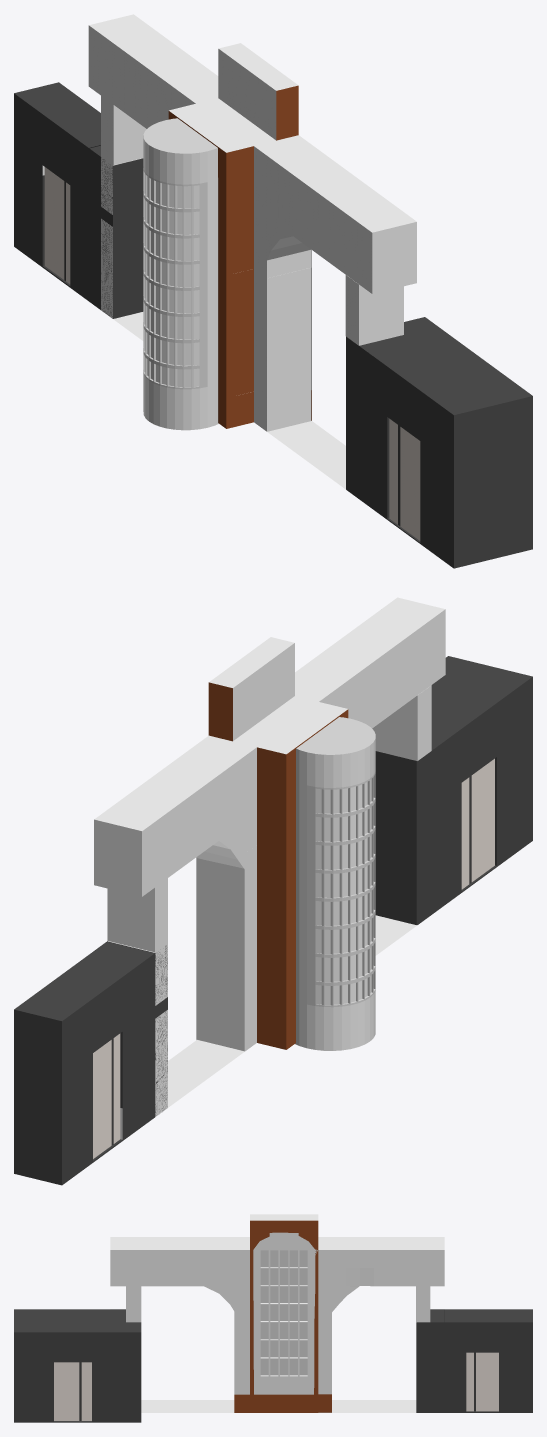
Rendered from vorodi.fbx.
3 renders of one model, top to bottom at view 1: azimuth 30°, elevation 25°; view 2: azimuth 150°, elevation 25°; view 3: azimuth 270°, elevation 25°, orthographic. The views are drawn at different scales.
Parts seen in each view (by area): view 1: Cube, Cylinder; view 2: Cube, Cylinder; view 3: Cube.
Part boxes in pixels (x1,y1,x2,y2): Cube: (14,14,532,568); Cylinder: (143,118,218,430); Cube: (14,597,532,1185); Cylinder: (295,717,375,1050); Cube: (14,1214,532,1422).
Size of the model in its own units: 2624 by 535 by 1077.
